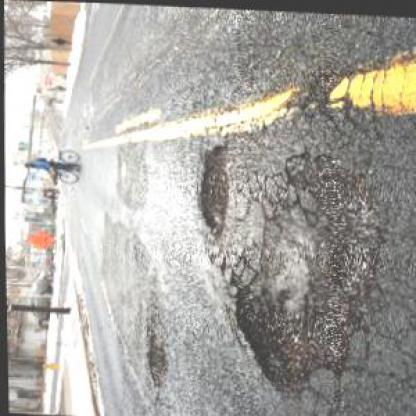pothole: (219, 141, 387, 396), (193, 136, 230, 237), (140, 316, 168, 384)
